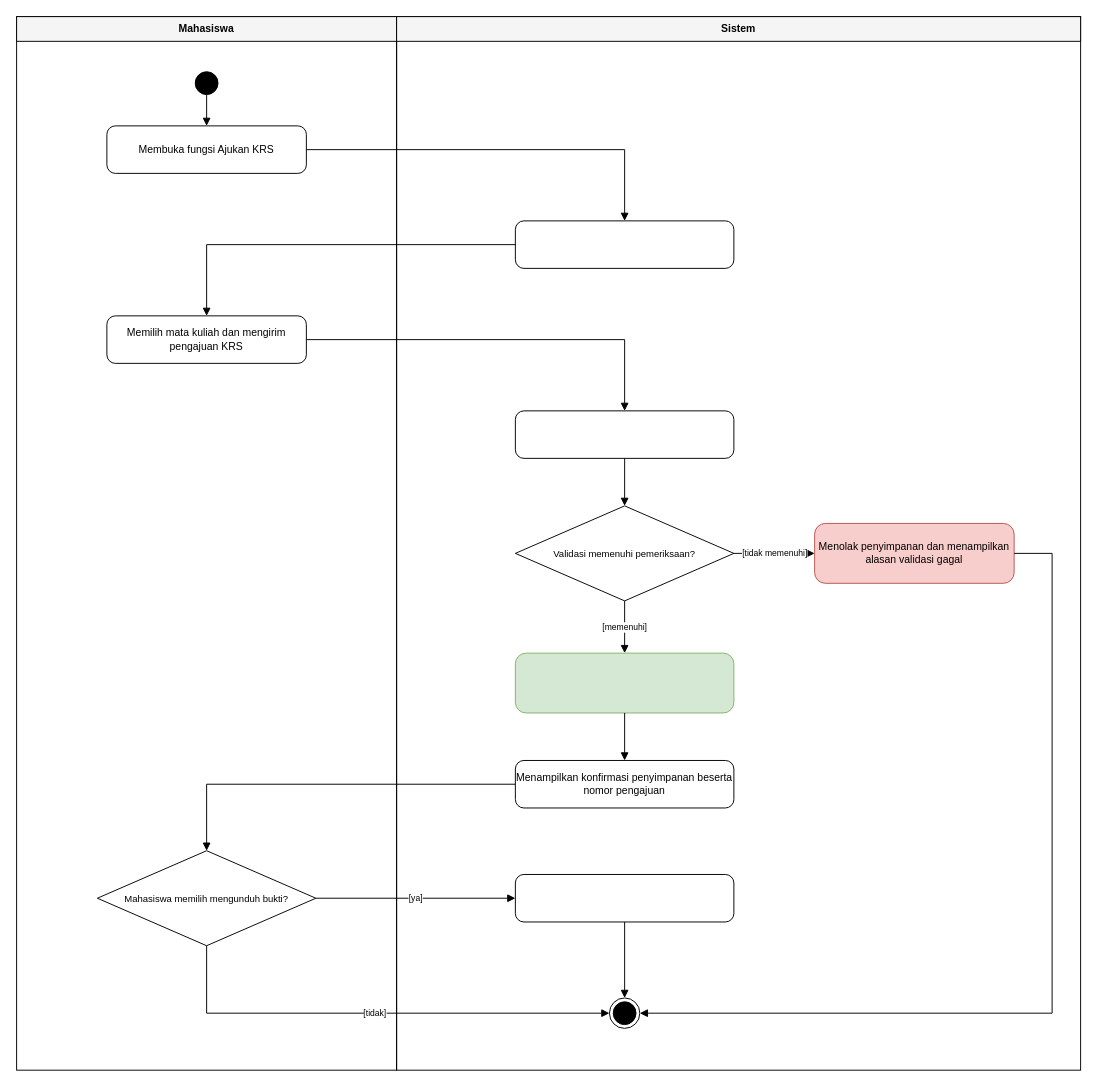
Image size: 1097x1087. Some labels were removed from this diagram. Each missing label, with the box of its shape:
Menampilkan daftar mata kuliah yang dapat dipilih: (514, 220, 734, 268)
Menjalankan SIA-UC04 Validasi KRS (include): (514, 410, 734, 458)
Menjalankan SIA-UC05 Unduh Bukti Pengajuan KRS (extend): (514, 874, 734, 922)
Menyimpan pengajuan KRS dengan status Menunggu persetujuan dosen wali: (514, 652, 734, 713)
